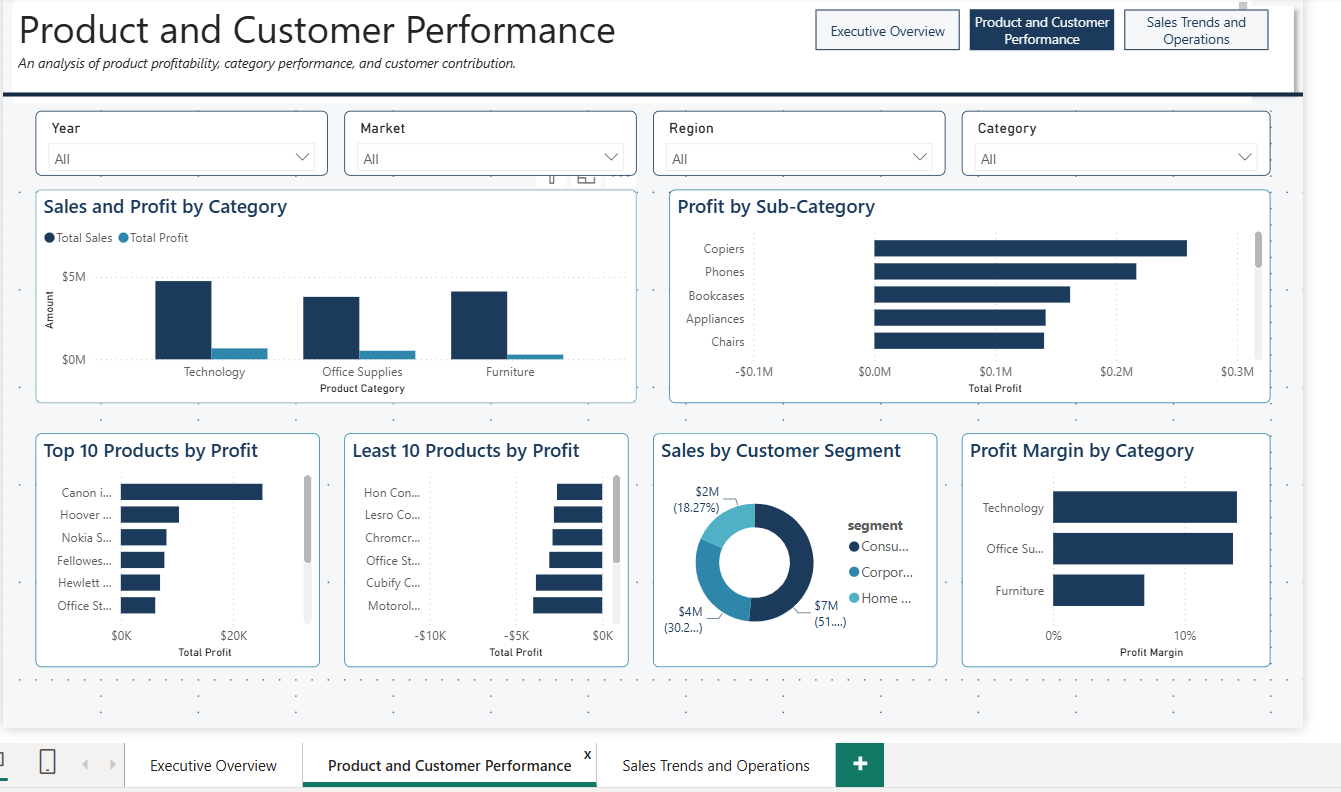

Layout of this report page (visuals, bound fields, positions):
{"tool":"powerbi","page":{"name":"Product and Customer Performance","canvas":[1280,720],"ordinal":1},"visuals":[{"type":"shape","box":[0,0,1280,103],"z":0},{"type":"textbox","box":[10,50,1220,54],"z":1000},{"type":"textbox","box":[10,0,1220,54.1],"z":2000},{"type":"shape","box":[0,64,1280,64],"z":3000},{"type":"clusteredColumnChart","title":"Sales and Profit by Category","fields":{"Category":["cleaned.category"],"Y":["cleaned.total_sales","cleaned.total_profit"]},"box":[32,190,592,210],"z":4000},{"type":"clusteredBarChart","title":"Profit by Sub-Category","fields":{"Category":["cleaned.sub_category"],"Y":["cleaned.total_profit"]},"box":[656,190,592,210],"z":5000},{"type":"clusteredBarChart","title":"Top 10 Products by Profit","fields":{"Category":["cleaned.product_label"],"Y":["cleaned.total_profit"]},"box":[32,430,280,230],"z":6000},{"type":"donutChart","title":"Sales by Customer Segment","fields":{"Category":["cleaned.segment"],"Y":["cleaned.total_sales"]},"box":[640,430,280,230],"z":7000},{"type":"clusteredBarChart","title":"Profit Margin by Category","fields":{"Category":["cleaned.category"],"Y":["cleaned.profit_margin"]},"box":[944,430,304,230],"z":8000},{"type":"pageNavigator","box":[800,12,448,40],"z":9000},{"type":"slicer","fields":{"Values":["cleaned.Year"]},"box":[32,112,288,64],"z":10000},{"type":"clusteredBarChart","title":"Least 10 Products by Profit","fields":{"Category":["cleaned.product_label"],"Y":["cleaned.total_profit"]},"box":[336,430,280,230],"z":11000},{"type":"slicer","fields":{"Values":["cleaned.market"]},"box":[336,112,288,64],"z":12000},{"type":"slicer","fields":{"Values":["cleaned.region"]},"box":[640,112,288,64],"z":13000},{"type":"slicer","fields":{"Values":["cleaned.category"]},"box":[944,112,304,64],"z":14000}]}

Visuals, with their boxes on the page's 1280x720 design canvas (x1, y1, x2, y2). These are canvas units, not pixel positions in the 1341x792 screenshot, which may show the page scaled, cropped or inside an application window:
shape: {"left": 0, "top": 0, "right": 1280, "bottom": 103}
textbox: {"left": 10, "top": 50, "right": 1230, "bottom": 104}
textbox: {"left": 10, "top": 0, "right": 1230, "bottom": 54}
shape: {"left": 0, "top": 64, "right": 1280, "bottom": 128}
"Sales and Profit by Category" clusteredColumnChart: {"left": 32, "top": 190, "right": 624, "bottom": 400}
"Profit by Sub-Category" clusteredBarChart: {"left": 656, "top": 190, "right": 1248, "bottom": 400}
"Top 10 Products by Profit" clusteredBarChart: {"left": 32, "top": 430, "right": 312, "bottom": 660}
"Sales by Customer Segment" donutChart: {"left": 640, "top": 430, "right": 920, "bottom": 660}
"Profit Margin by Category" clusteredBarChart: {"left": 944, "top": 430, "right": 1248, "bottom": 660}
pageNavigator: {"left": 800, "top": 12, "right": 1248, "bottom": 52}
slicer - cleaned.Year: {"left": 32, "top": 112, "right": 320, "bottom": 176}
"Least 10 Products by Profit" clusteredBarChart: {"left": 336, "top": 430, "right": 616, "bottom": 660}
slicer - cleaned.market: {"left": 336, "top": 112, "right": 624, "bottom": 176}
slicer - cleaned.region: {"left": 640, "top": 112, "right": 928, "bottom": 176}
slicer - cleaned.category: {"left": 944, "top": 112, "right": 1248, "bottom": 176}
